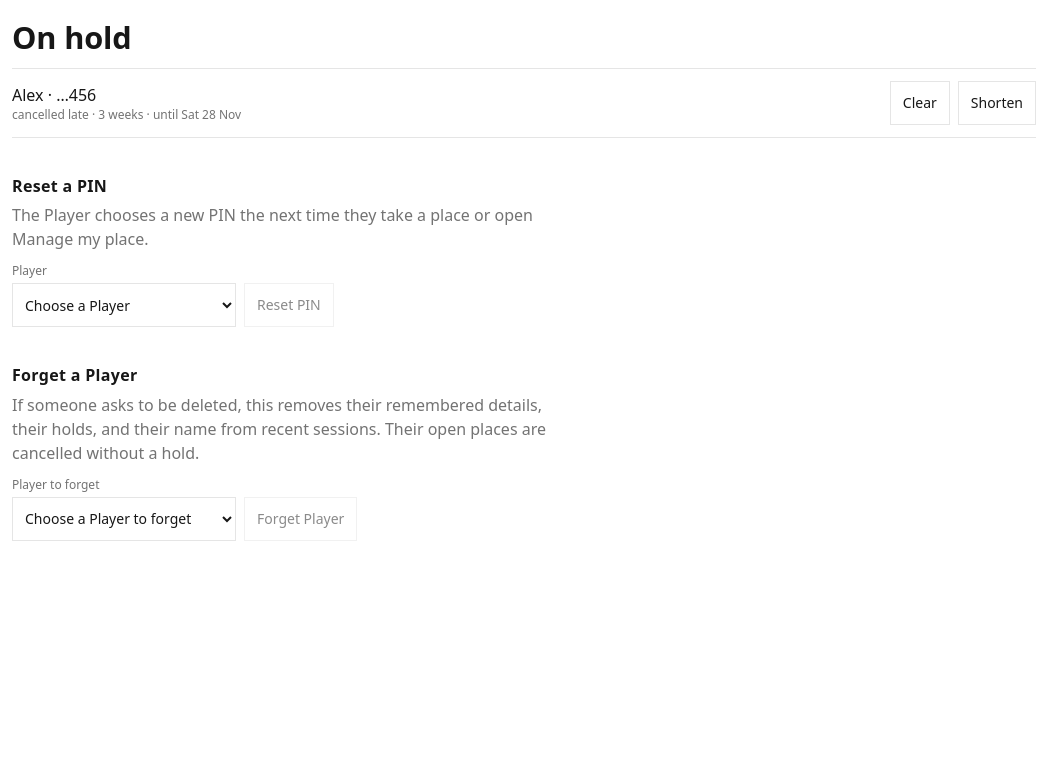
Test: holds › shortens a hold to an earlier date, and only offers dates before it ends
The image size is (1048, 768).
Click the button with aria-label "Shorten hold for Alex".
click(997, 103)  # box [958,81,1036,125]
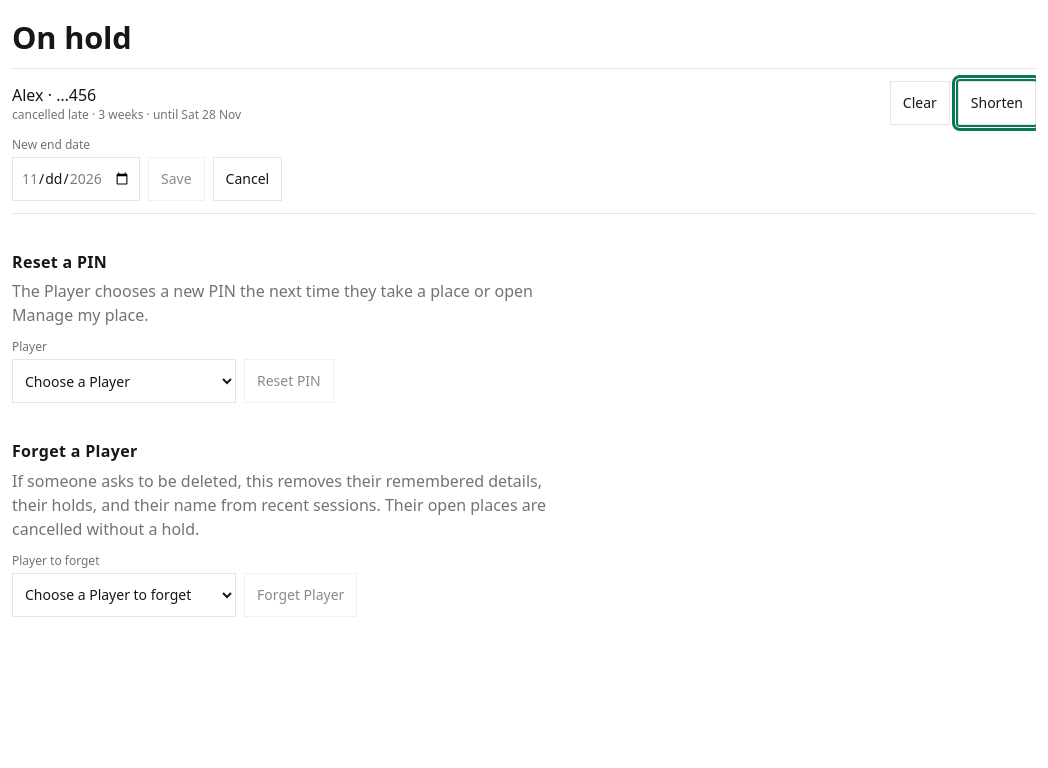
Type "2026-11-14" into the date field labelled "New end date".
click(76, 179); type("2026-11-14")  # box [12,157,140,201]
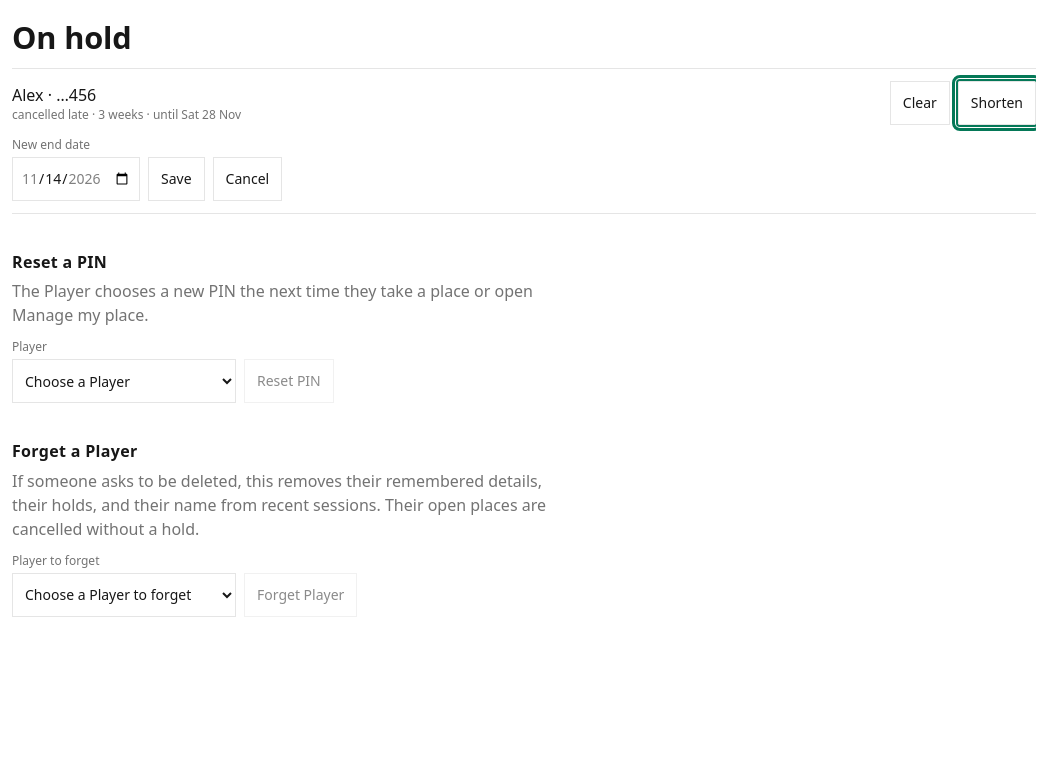
Click the button "Save".
click(176, 179)  # box [148,157,205,201]
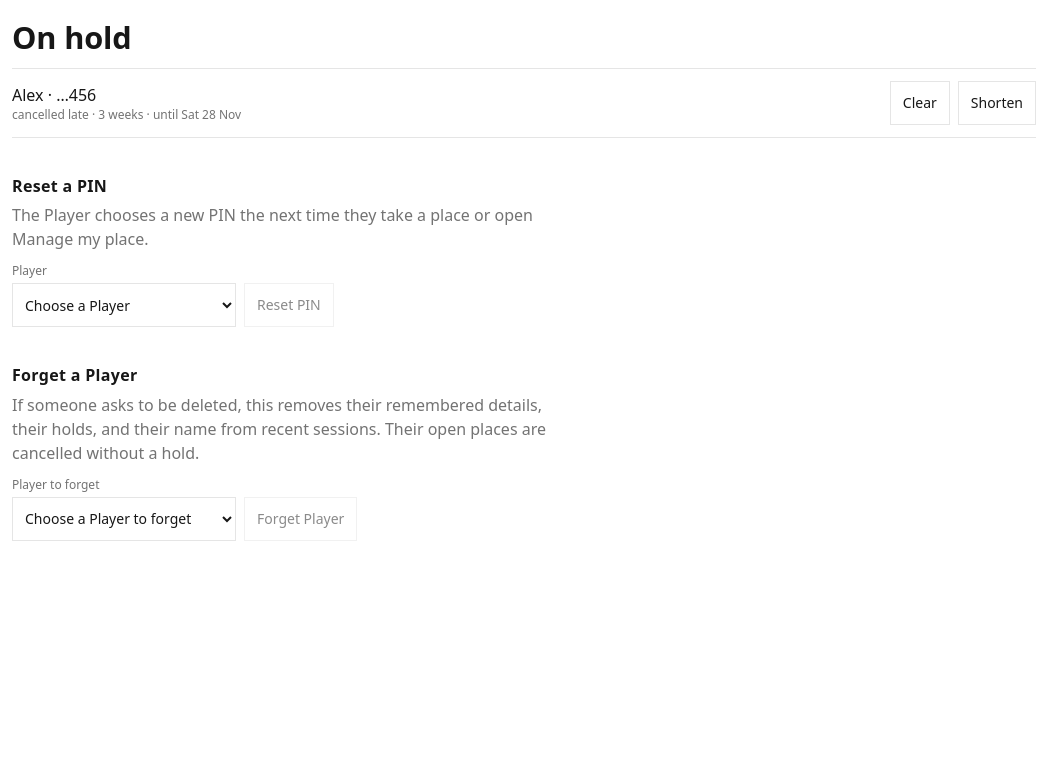
Expected: the label labelled "New end date" is gone
